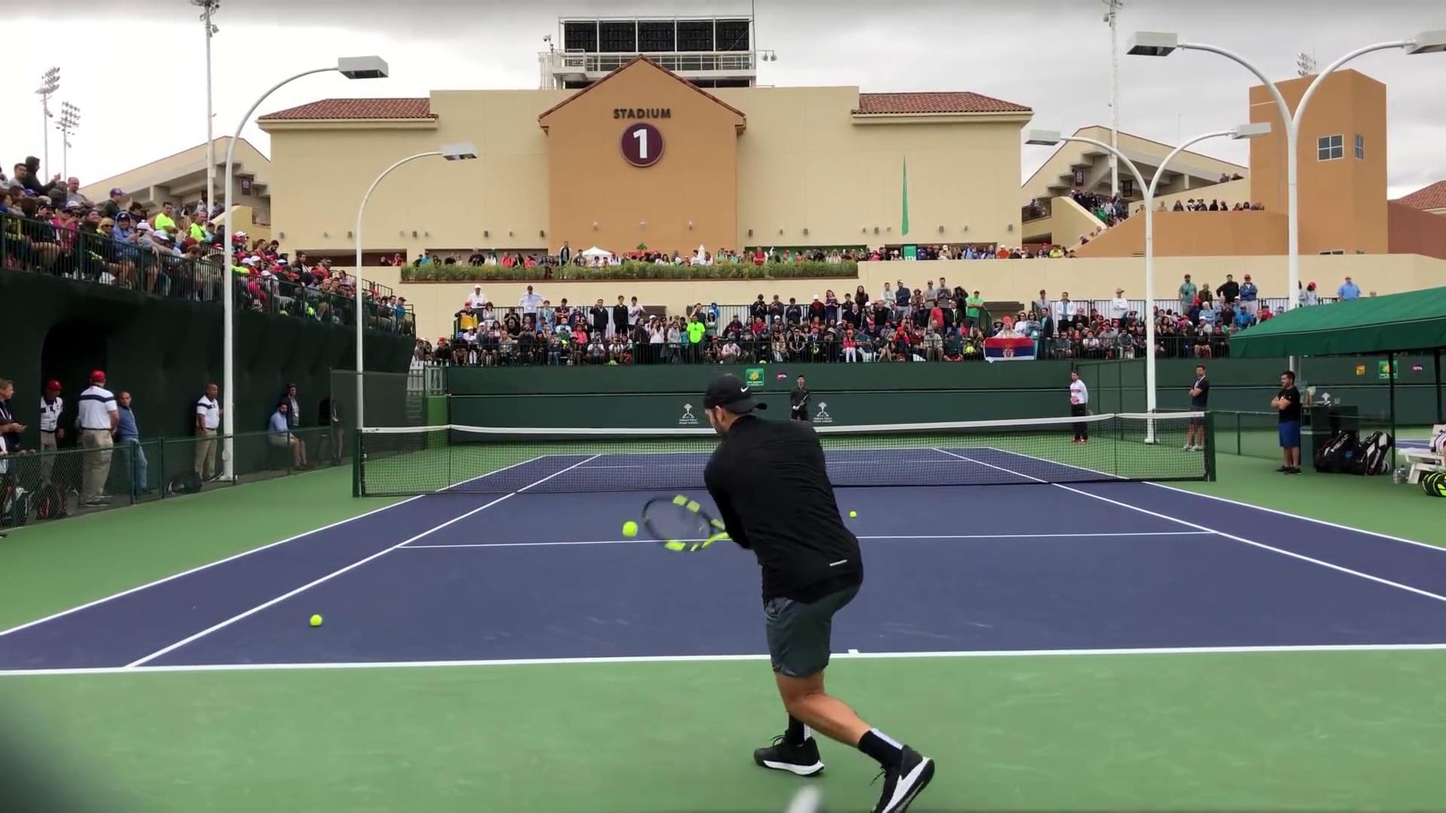ball: (622, 520, 638, 538), (310, 615, 322, 627), (850, 510, 857, 518)
